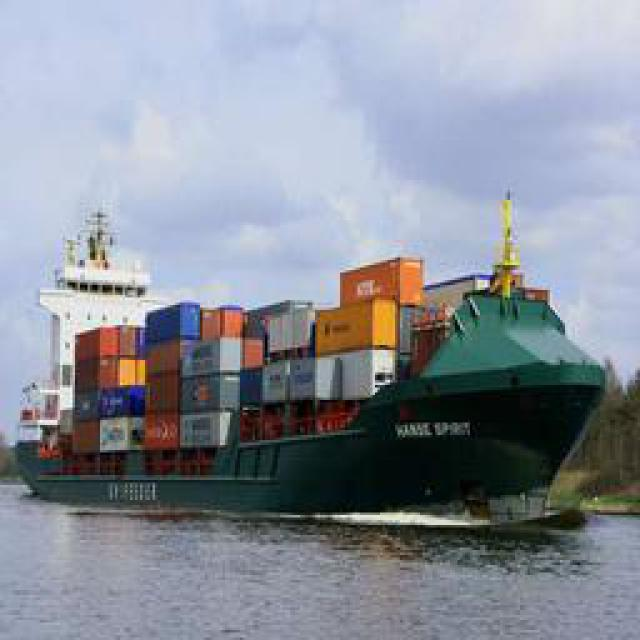Ship: (10, 194, 580, 514)
